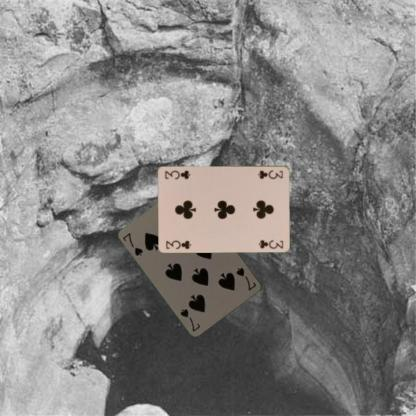3c: (255, 168, 284, 180), (164, 238, 192, 250)
7s: (120, 230, 145, 258), (233, 265, 258, 292)
